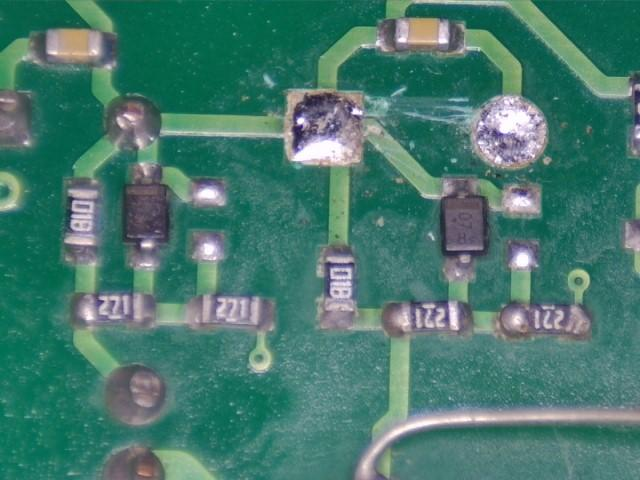pcb_defect: (284, 90, 363, 164), (475, 97, 544, 164)
